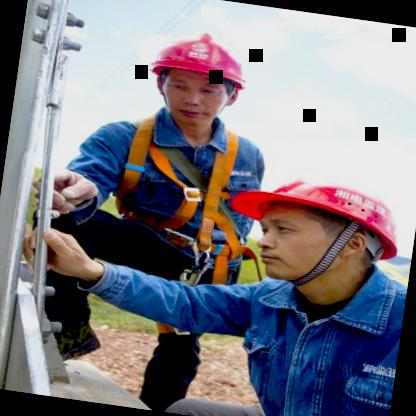helmet: (228, 150, 414, 301), (126, 18, 266, 144)
